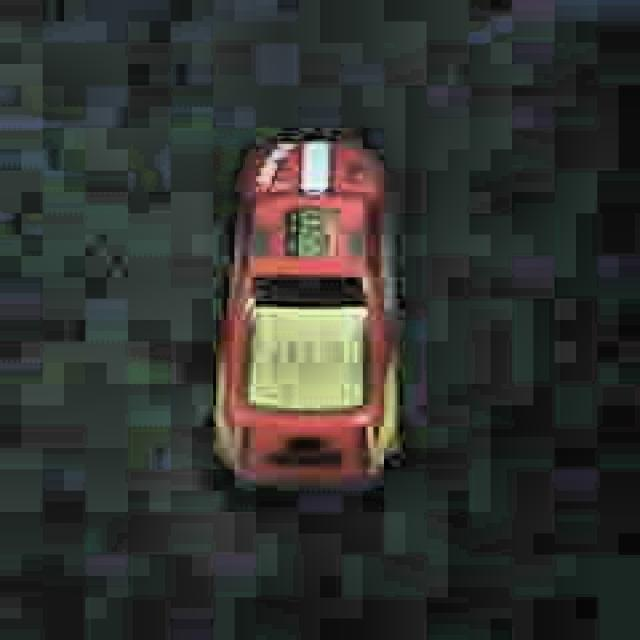car: (206, 126, 410, 496)
